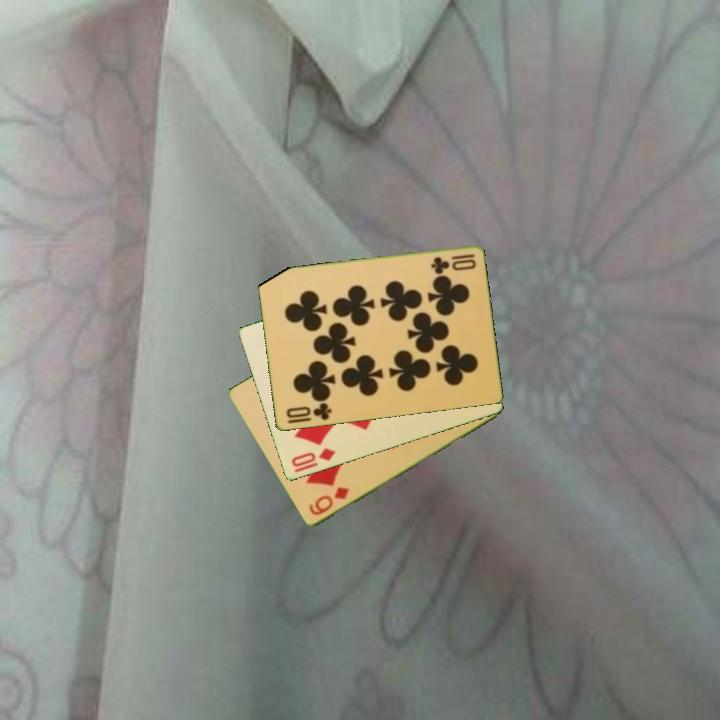10c: (282, 399, 334, 423), (427, 251, 479, 275)
10d: (288, 445, 338, 470)
6d: (305, 484, 352, 519)
